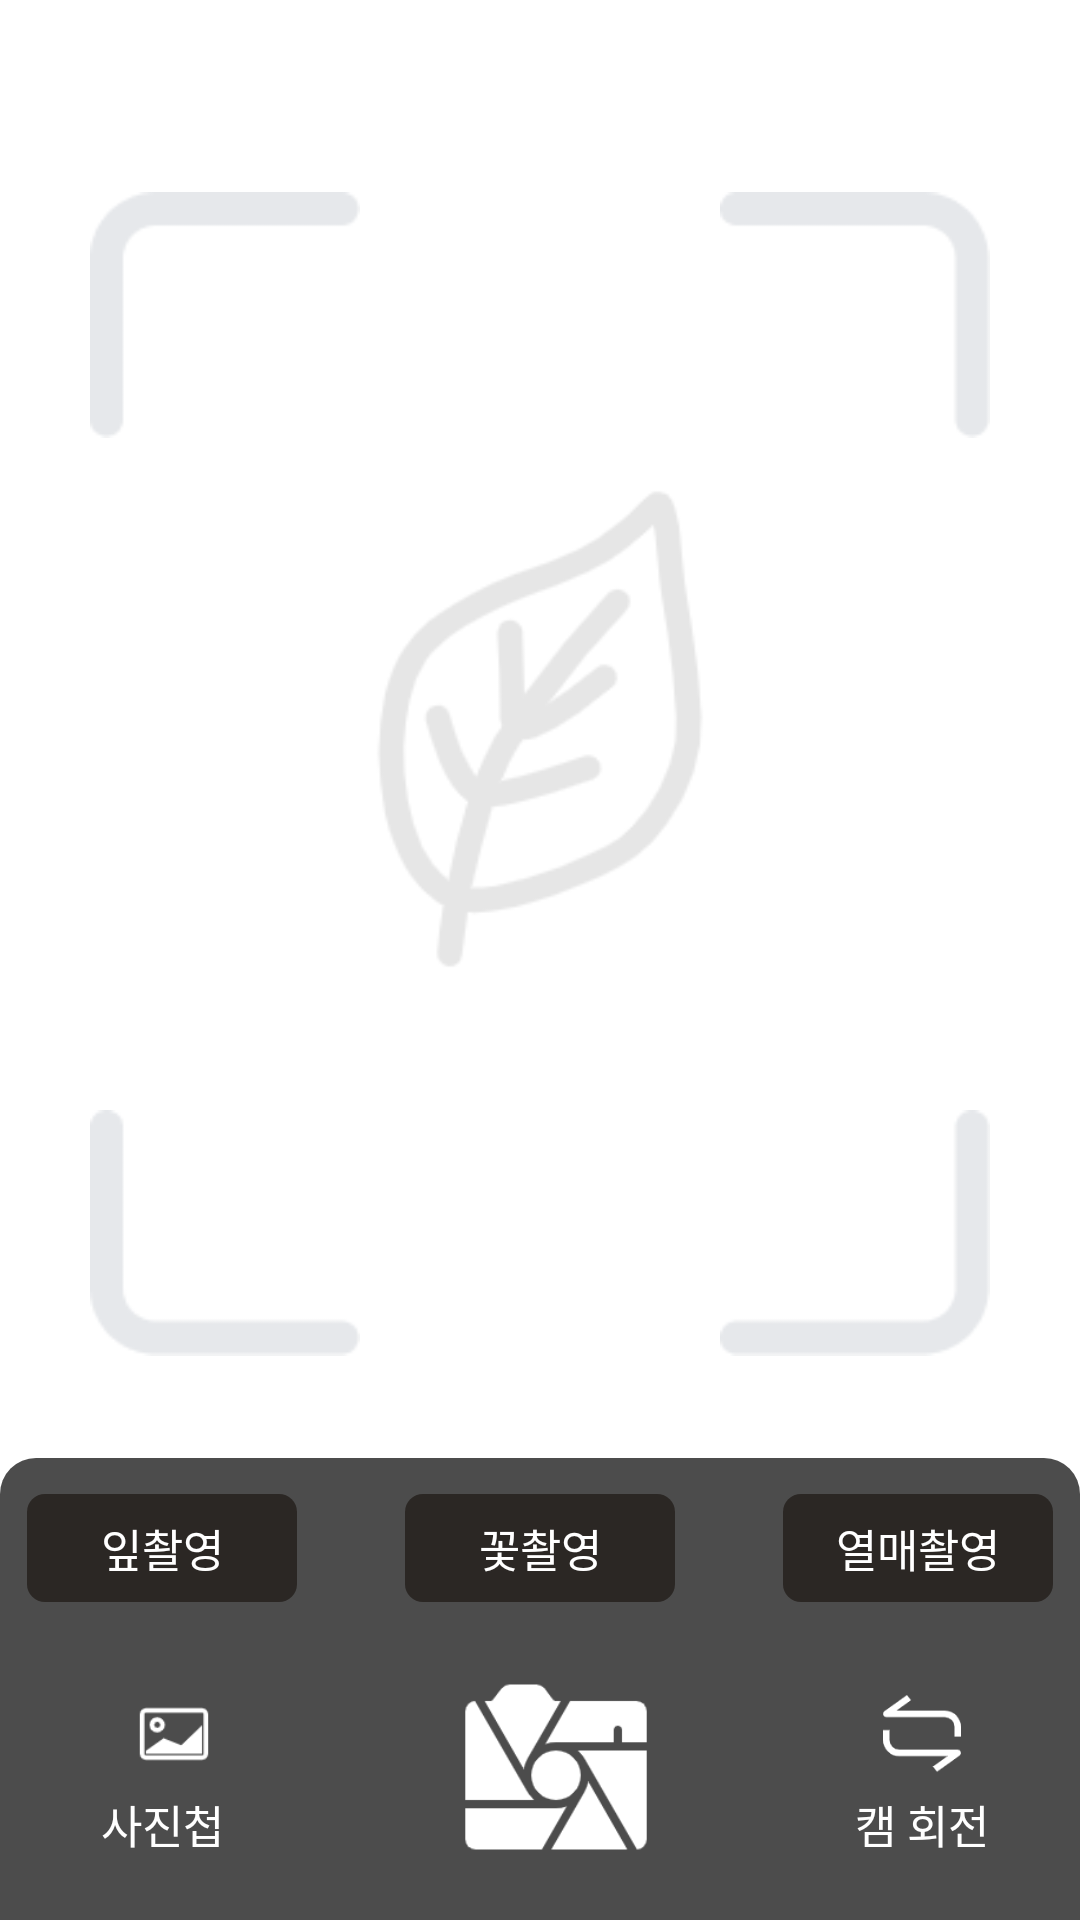

Where icons sit on this 1080 x 1920 app screen, as box=[x1, y1, x2, y2]:
camera center: box=[465, 1684, 647, 1850]
src lib eui cornerleftbottom: box=[90, 1110, 356, 1352]
src lib eui cornerlefttop: box=[90, 192, 356, 434]
src lib eui cornerrightbottom: box=[720, 1110, 986, 1352]
src lib eui cornerrighttop: box=[720, 192, 986, 434]
